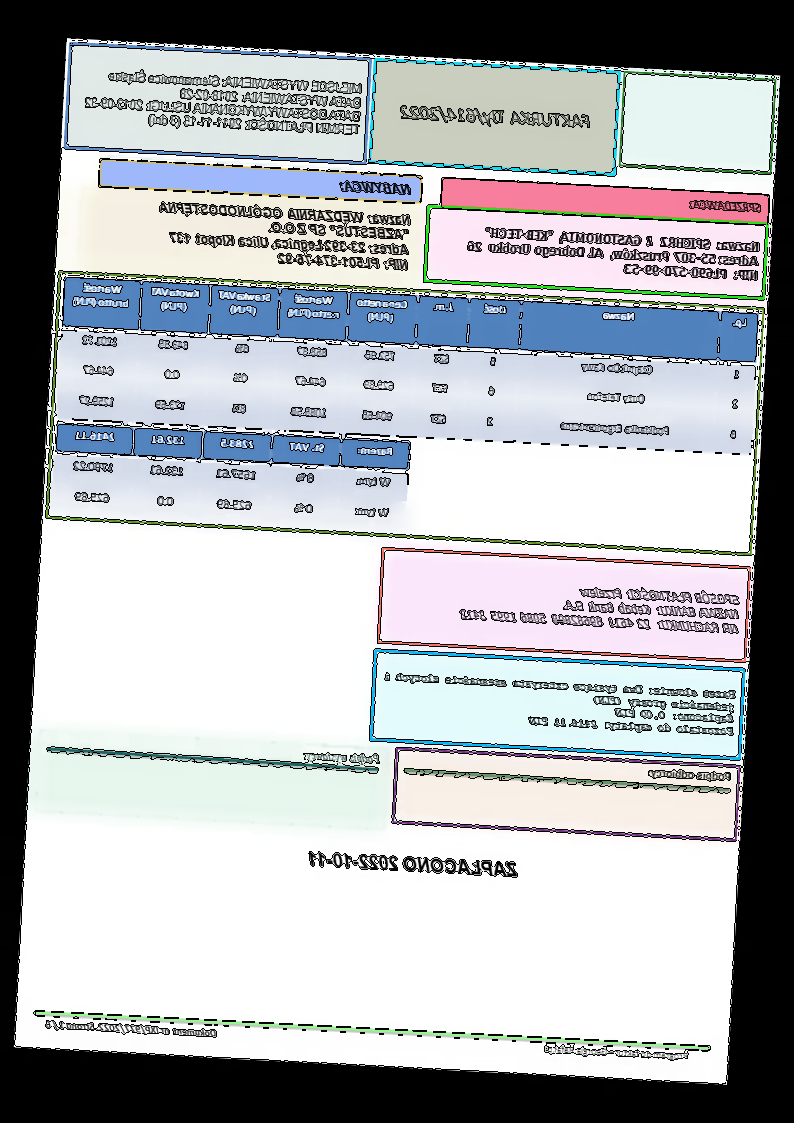Table: (57, 275, 761, 455), (51, 421, 411, 533)
TextBox: (382, 670, 737, 738), (82, 66, 365, 140), (155, 199, 414, 272), (466, 224, 761, 283), (459, 577, 743, 636), (306, 847, 521, 879), (399, 102, 594, 131), (44, 1018, 219, 1040), (543, 1043, 691, 1063), (646, 765, 734, 785), (303, 746, 383, 768), (688, 196, 765, 216), (338, 178, 414, 197)
